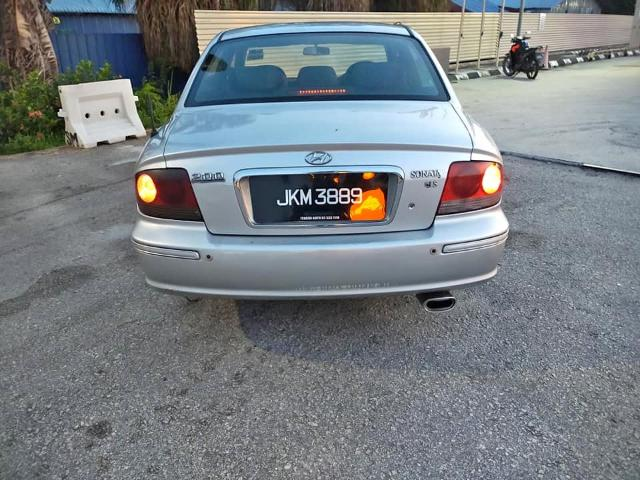License_Plate: (263, 183, 380, 218)
